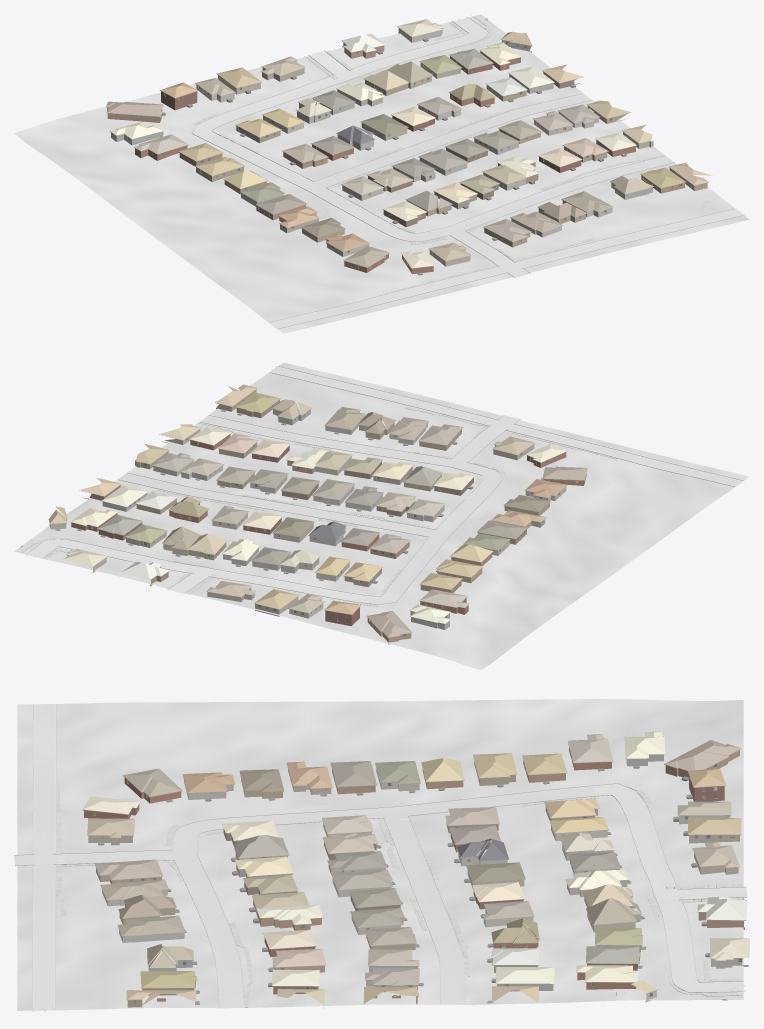
The picture shows the model from 3 angles, top to bottom: view 1: azimuth 30°, elevation 25°; view 2: azimuth 150°, elevation 25°; view 3: azimuth 270°, elevation 25°; orthographic projection. The views are drawn at different scales.
Visible parts, largest first — view 1: ground, roof, concrete, wall, detail, asphalt, curb, wall_stucco, walk, wall_stone, glass; view 2: ground, roof, concrete, wall, curb, asphalt, detail, wall_stucco, walk, wall_stone, glass; view 3: ground, roof, concrete, wall, asphalt, detail, walk, curb, wall_stucco, wall_stone.
Boxes of the visible parts, left/top/right/bottom form: ground: left=14, top=14, right=749, bottom=333; roof: left=106, top=19, right=712, bottom=268; concrete: left=192, top=16, right=673, bottom=277; wall: left=107, top=43, right=707, bottom=274; detail: left=106, top=18, right=708, bottom=275; asphalt: left=270, top=210, right=745, bottom=328; curb: left=191, top=17, right=743, bottom=328; wall_stucco: left=111, top=74, right=653, bottom=266; walk: left=192, top=16, right=710, bottom=293; wall_stone: left=326, top=28, right=612, bottom=256; glass: left=127, top=41, right=681, bottom=268; ground: left=14, top=362, right=749, bottom=670; roof: left=48, top=384, right=587, bottom=637; concrete: left=25, top=415, right=519, bottom=603; wall: left=71, top=389, right=586, bottom=644; curb: left=26, top=366, right=743, bottom=606; asphalt: left=271, top=366, right=742, bottom=486; detail: left=20, top=388, right=584, bottom=637; wall_stucco: left=102, top=409, right=534, bottom=629; walk: left=21, top=383, right=617, bottom=606; wall_stone: left=49, top=412, right=566, bottom=572; glass: left=125, top=405, right=569, bottom=636; ground: left=17, top=699, right=743, bottom=1010; roof: left=82, top=731, right=749, bottom=1005; concrete: left=14, top=783, right=746, bottom=1007; wall: left=84, top=747, right=744, bottom=1007; asphalt: left=32, top=704, right=56, bottom=1011; detail: left=82, top=735, right=746, bottom=1004; walk: left=56, top=780, right=743, bottom=1007; curb: left=14, top=704, right=746, bottom=1009; wall_stucco: left=88, top=754, right=739, bottom=1008; wall_stone: left=102, top=780, right=748, bottom=1002.
Bounding box in the file's own units: 256 × 13.79 × 253.
